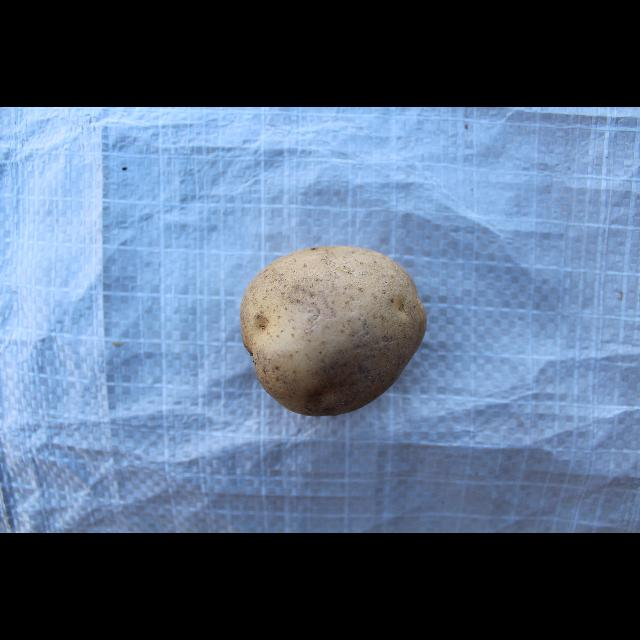Diseased-fungal potato: (234, 244, 432, 422)
